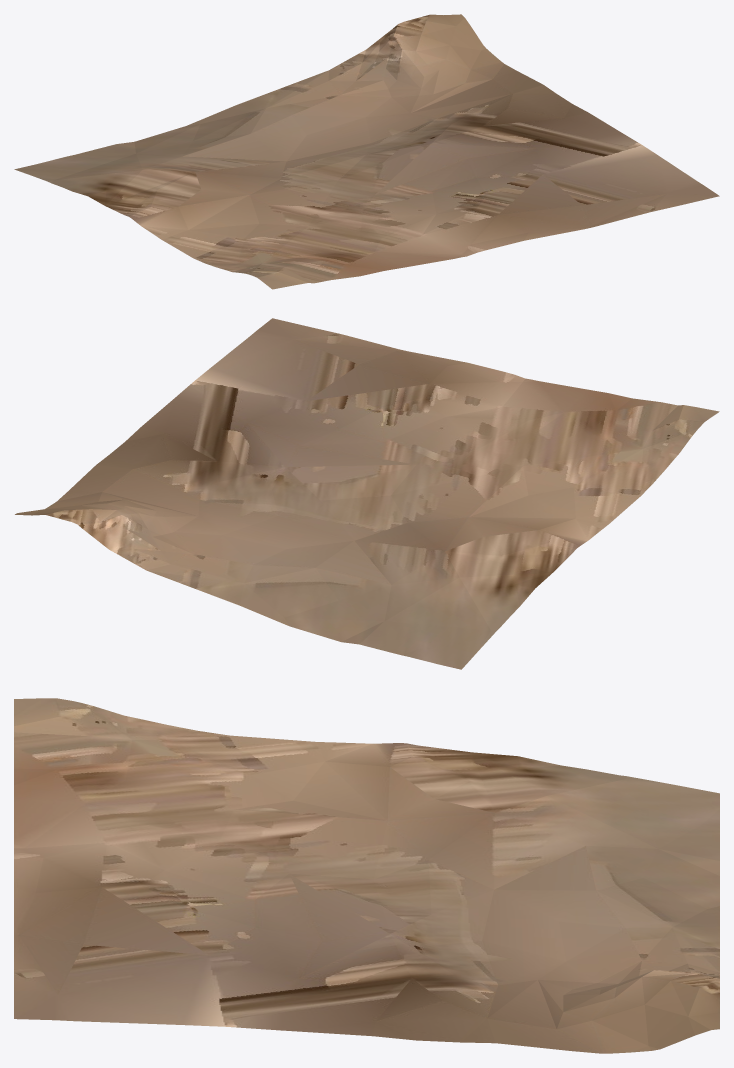
3 views of the same model, one above another, from view 1: azimuth 30°, elevation 25°; view 2: azimuth 150°, elevation 25°; view 3: azimuth 270°, elevation 25° (orthographic). The views are drawn at different scales.
Size of the model in its own units: 1.04 by 0.1593 by 1.04.
Materials: 2 (2 with a texture image).
